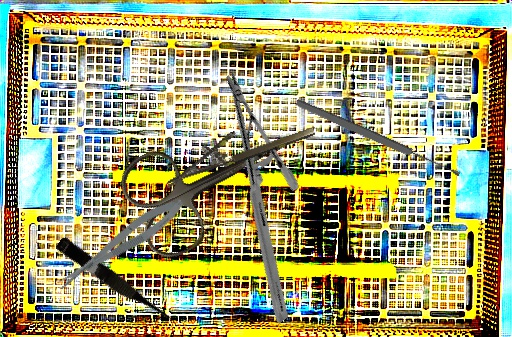Iris Scissors: (112, 81, 340, 266)
Micro Scissor: (50, 191, 190, 295), (53, 235, 178, 331)
Needle Holder: (134, 71, 379, 324), (158, 106, 316, 188)
Surgical Spoon: (294, 97, 462, 180)
